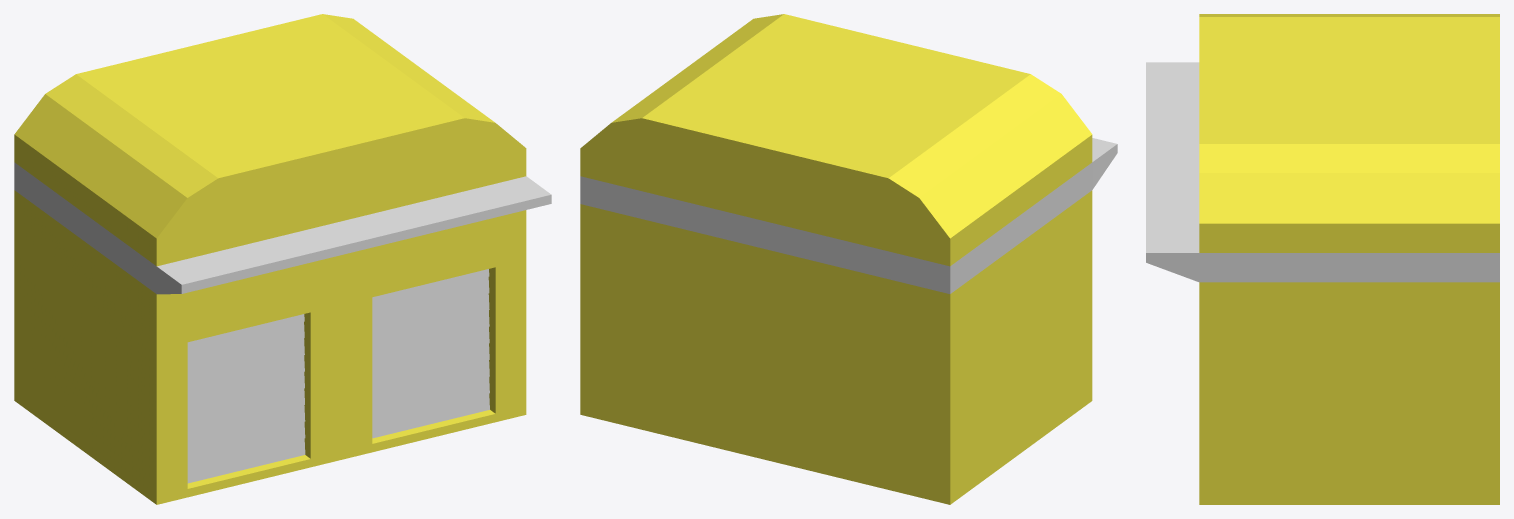
The model's file is Store_Close_Yellow.fbx.
3 renders of one model, left to right at view 1: azimuth 30°, elevation 25°; view 2: azimuth 150°, elevation 25°; view 3: azimuth 270°, elevation 25°, orthographic. The views are drawn at different scales.
Visible parts, largest first — view 1: StoreCloseDoor.004; view 2: StoreCloseDoor.004; view 3: StoreCloseDoor.004.
Boxes of the visible parts, x1,y1,x2,y2 form: StoreCloseDoor.004: [14, 14, 551, 504]; StoreCloseDoor.004: [580, 14, 1117, 504]; StoreCloseDoor.004: [1146, 14, 1499, 504].
Bounding box in the file's own units: 300 × 242 × 235.
